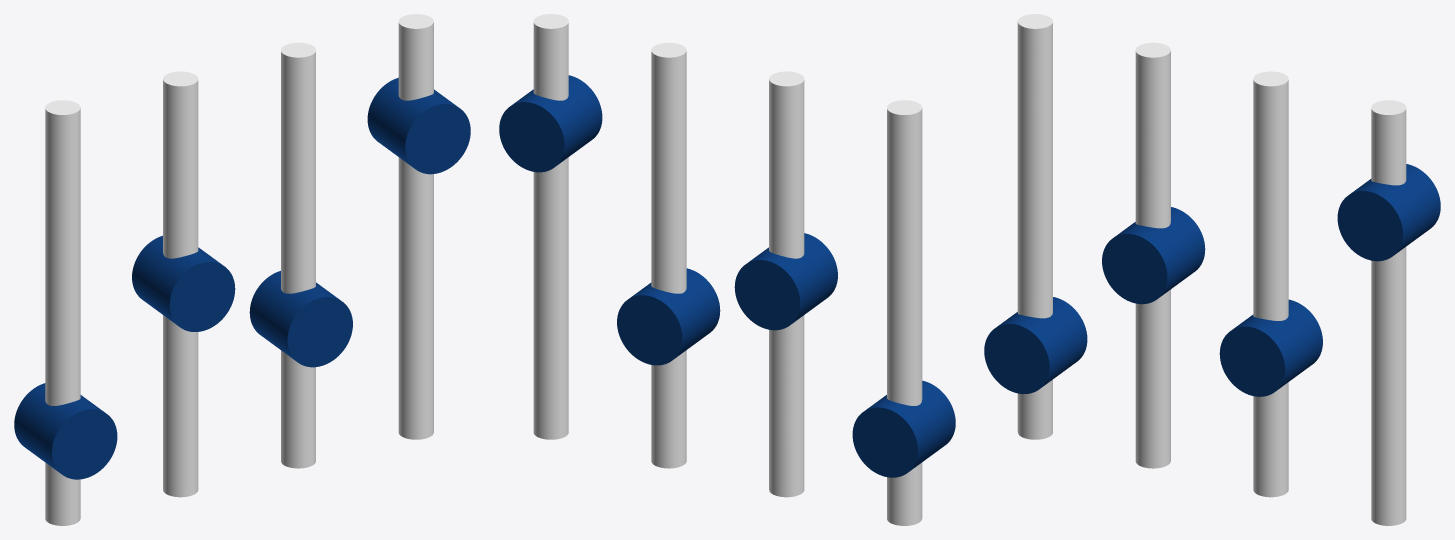
The model's file is MixerColors.glb.
3 views of the same model, side by side, from view 1: azimuth 30°, elevation 25°; view 2: azimuth 150°, elevation 25°; view 3: azimuth 330°, elevation 25° (orthographic).
Visible parts, largest first — view 1: Ellipse 4, Ellipse, Ellipse 2, Ellipse 3, Ellipse 5, Ellipse 8, Ellipse 7, Ellipse 6; view 2: Ellipse 2, Ellipse, Ellipse 3, Ellipse 4, Ellipse 8, Ellipse 7, Ellipse 6, Ellipse 5; view 3: Ellipse 3, Ellipse 4, Ellipse 2, Ellipse, Ellipse 8, Ellipse 7, Ellipse 5, Ellipse 6.
Boxes of the visible parts, box(x1,y1,x2,y2) form: Ellipse 4: box(398, 14, 433, 439); Ellipse: box(45, 100, 80, 525); Ellipse 2: box(163, 71, 198, 497); Ellipse 3: box(281, 42, 315, 468); Ellipse 5: box(14, 383, 117, 479); Ellipse 8: box(367, 77, 470, 174); Ellipse 7: box(249, 271, 352, 367); Ellipse 6: box(132, 235, 235, 331); Ellipse 2: box(769, 71, 804, 497); Ellipse: box(887, 100, 922, 525); Ellipse 3: box(651, 42, 686, 468); Ellipse 4: box(533, 14, 568, 439); Ellipse 8: box(499, 75, 602, 172); Ellipse 7: box(617, 268, 720, 365); Ellipse 6: box(734, 233, 837, 330); Ellipse 5: box(852, 380, 955, 477); Ellipse 3: box(1253, 71, 1288, 497); Ellipse 4: box(1371, 100, 1406, 525); Ellipse 2: box(1135, 42, 1170, 468); Ellipse: box(1017, 14, 1052, 439); Ellipse 8: box(1337, 164, 1440, 261); Ellipse 7: box(1219, 299, 1322, 396); Ellipse 5: box(984, 297, 1087, 394); Ellipse 6: box(1102, 207, 1205, 304).
Size of the model in its own units: 0.96 by 0.9 by 0.15.
